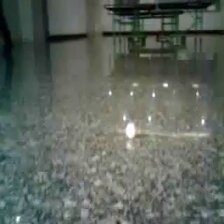w: (124, 122, 138, 140)
